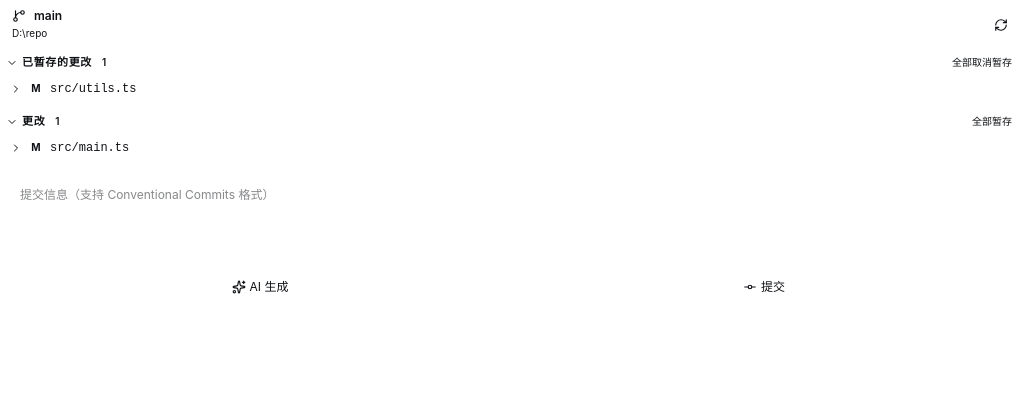
Test case: SourceControlPanel › collapses the diff when the row is clicked again without refetching
Step 1. Click the text "src/main.ts" → click(90, 148), box x1=50 y1=141 x2=129 y2=155
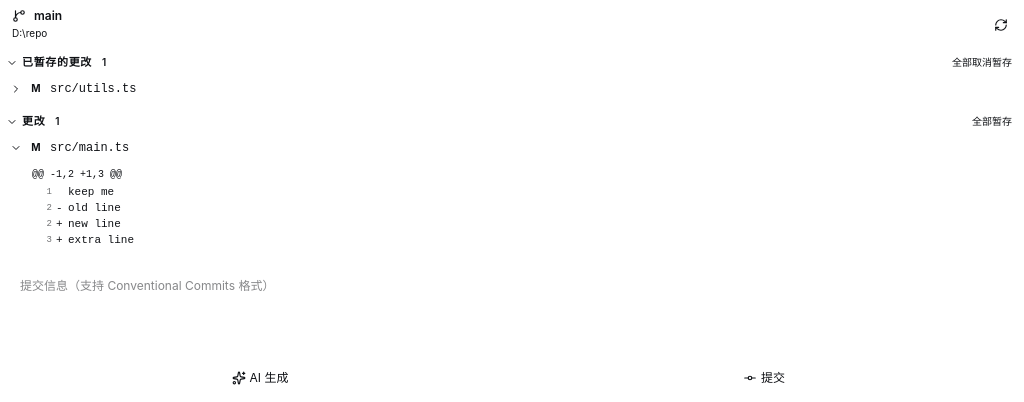
expect the text "@@ -1,2 +1,3 @@" is shown: met, box x1=32 y1=169 x2=122 y2=180
Step 2. Click the text "src/main.ts" → click(90, 148), box x1=50 y1=141 x2=129 y2=155
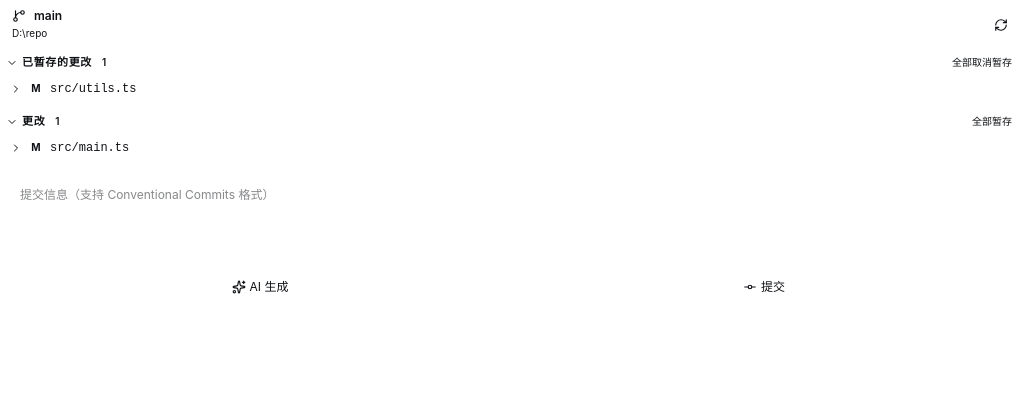
expect the text "@@ -1,2 +1,3 @@" is gone: met
